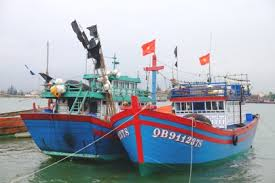tau_dansu: (126, 69, 258, 169), (16, 72, 123, 171)
